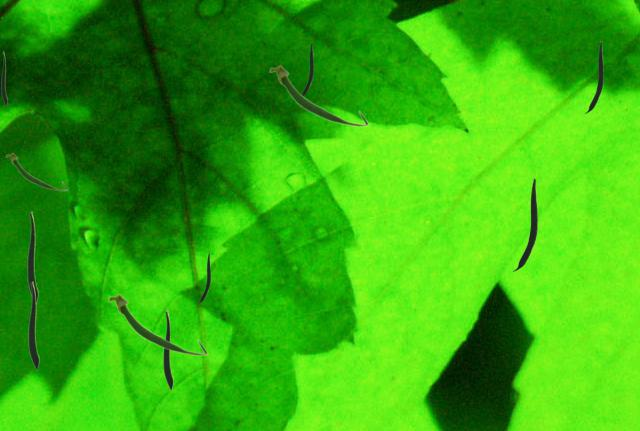french_bean: (107, 293, 207, 355), (268, 64, 368, 126), (5, 152, 67, 190), (513, 178, 536, 270), (585, 41, 602, 112), (27, 211, 37, 303), (28, 281, 38, 369), (163, 310, 172, 389), (198, 253, 209, 302), (302, 42, 312, 95), (1, 51, 6, 105)
